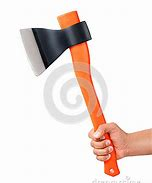axe: (18, 9, 125, 178)
